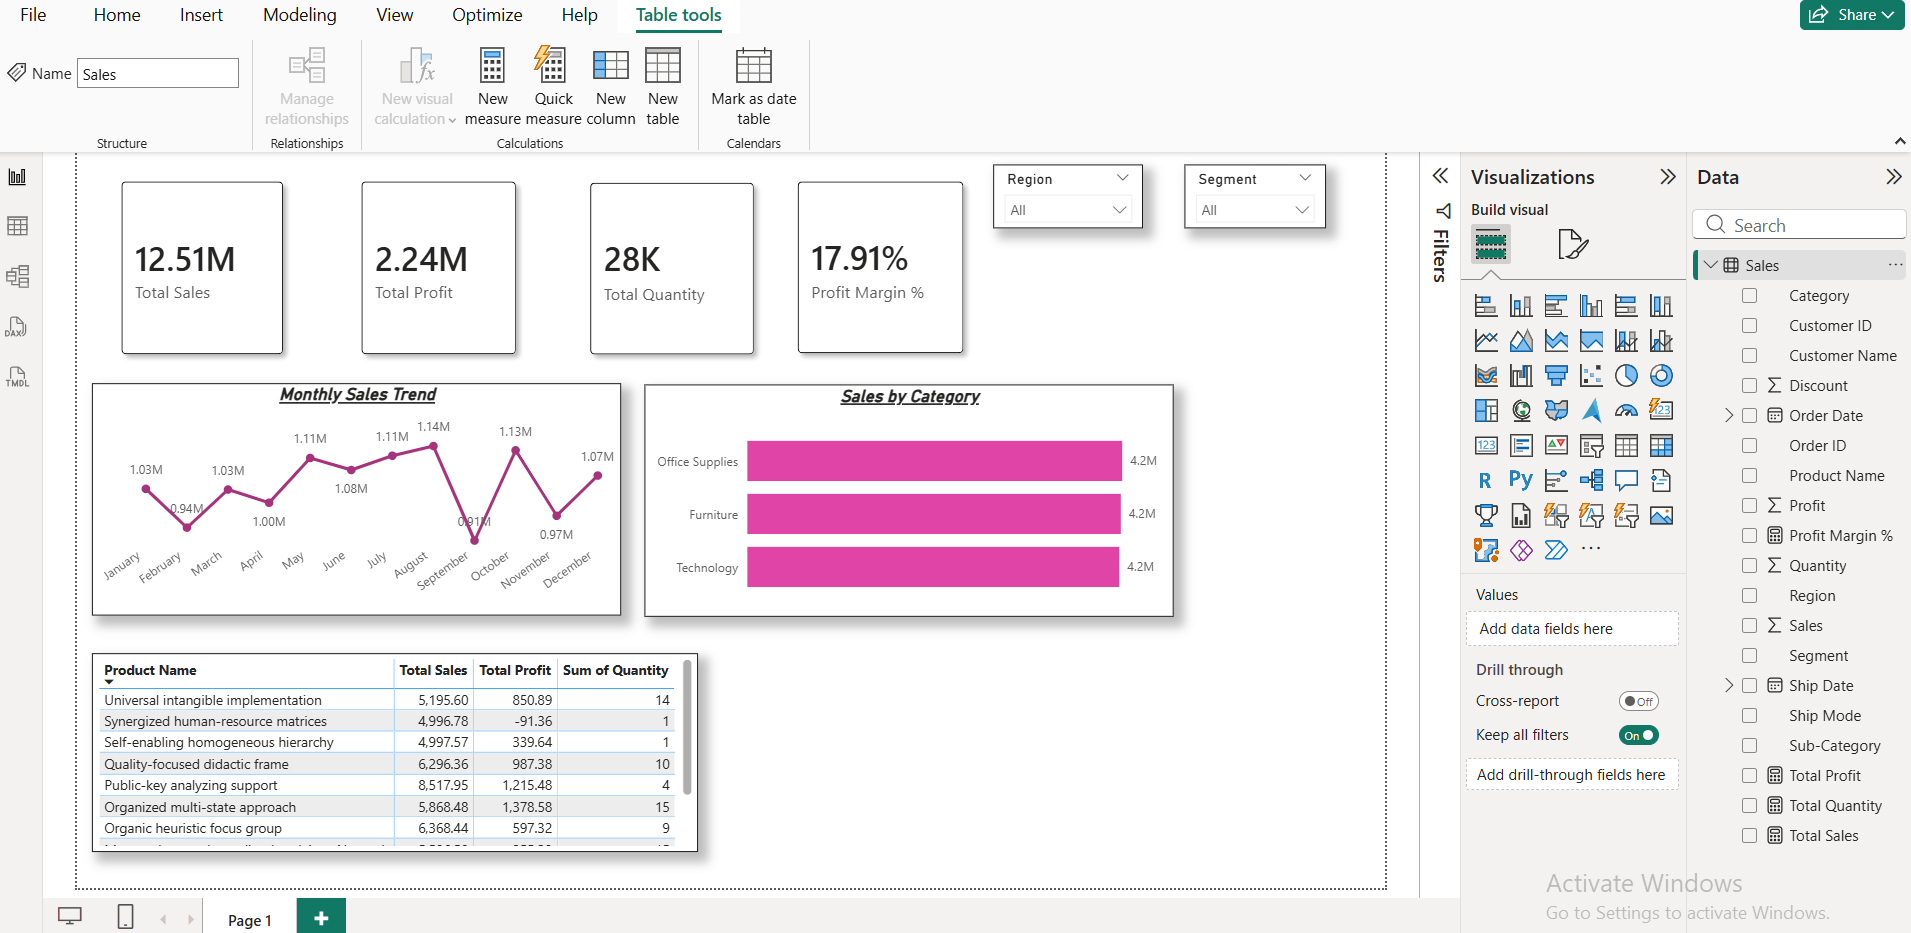

This screenshot's page, from the dashboard's own definition file:
{"tool":"powerbi","page":{"name":"Page 1","canvas":[1280,720],"ordinal":0},"visuals":[{"type":"cardVisual","fields":{"Data":["Sales.Total Sales"]},"box":[14.7,0,216.4,227.4],"z":0},{"type":"cardVisual","fields":{"Data":["Sales.Total Profit"]},"box":[249.5,0,209.1,227.4],"z":1000},{"type":"cardVisual","fields":{"Data":["Sales.Total Quantity"]},"box":[473.2,1.2,218.9,226.2],"z":2000},{"type":"cardVisual","fields":{"Data":["Sales.Profit Margin %"]},"box":[676.2,0,220.1,226.2],"z":3000},{"type":"lineChart","title":"Monthly Sales Trend","fields":{"Category":["Sales.Order Date.Variation.Date Hierarchy.Year","Sales.Order Date.Variation.Date Hierarchy.Month"],"Y":["Sales.Total Sales"]},"box":[14.7,226.2,517.3,227.4],"z":4000},{"type":"clusteredBarChart","title":" Sales by Category","fields":{"Y":["Sales.Total Sales"],"Category":["Sales.Category"]},"box":[555.2,227.4,517.3,227.4],"z":5000},{"type":"tableEx","fields":{"Values":["Sales.Product Name","Sales.Total Sales","Sales.Total Profit","Sum(Sales.Quantity)"]},"box":[14.7,490.4,593.1,194.4],"z":6000},{"type":"slicer","fields":{"Values":["Sales.Region"]},"box":[896.3,12.2,146.7,62.4],"z":7000},{"type":"slicer","fields":{"Values":["Sales.Segment"]},"box":[1083.4,12.2,138.2,62.4],"z":8000}]}

Visuals, with their boxes on the page's 1280x720 design canvas (x1, y1, x2, y2). These are canvas units, not pixel positions in the 1911x933 screenshot, which may show the page scaled, cropped or inside an application window:
cardVisual - Sales.Total Sales: 15, 0, 231, 227
cardVisual - Sales.Total Profit: 250, 0, 459, 227
cardVisual - Sales.Total Quantity: 473, 1, 692, 227
cardVisual - Sales.Profit Margin %: 676, 0, 896, 226
"Monthly Sales Trend" lineChart: 15, 226, 532, 454
" Sales by Category" clusteredBarChart: 555, 227, 1072, 455
tableEx - Sales.Product Name x Sales.Total Sales: 15, 490, 608, 685
slicer - Sales.Region: 896, 12, 1043, 75
slicer - Sales.Segment: 1083, 12, 1222, 75
